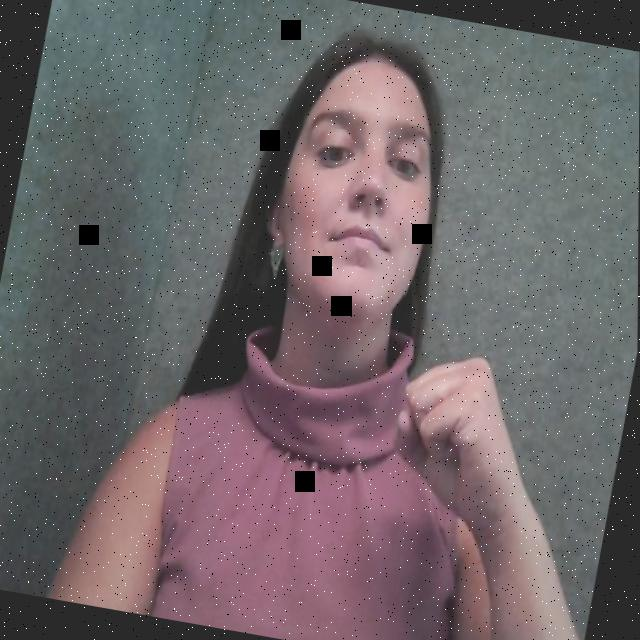Rock: (336, 316, 567, 574)
